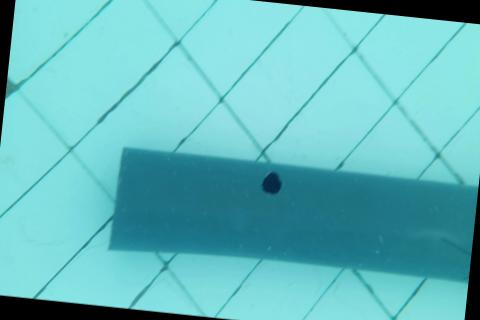kebocoran: (261, 170, 284, 197)
keretakan: (439, 235, 473, 260), (460, 271, 469, 280)
